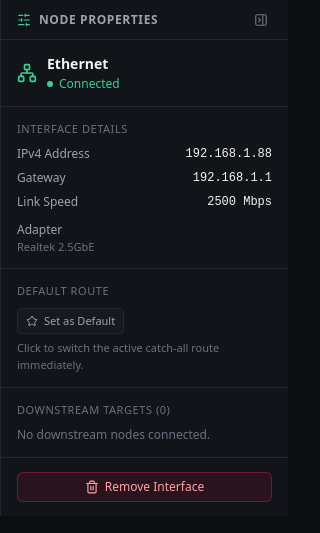
PropertiesPanel › hot-applies immediately when toggling default route in PropertiesPanel while active
Expected: the text "Click to switch the active catch-all route immediately." is shown, [17, 340, 219, 372]
Click the button "Set as Default" at (71, 321), box [17, 308, 124, 334]
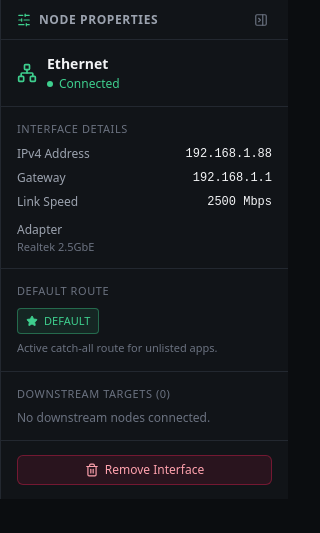
Result: the text "Active catch-all route for unlisted apps." is shown at [17, 340, 217, 355]
